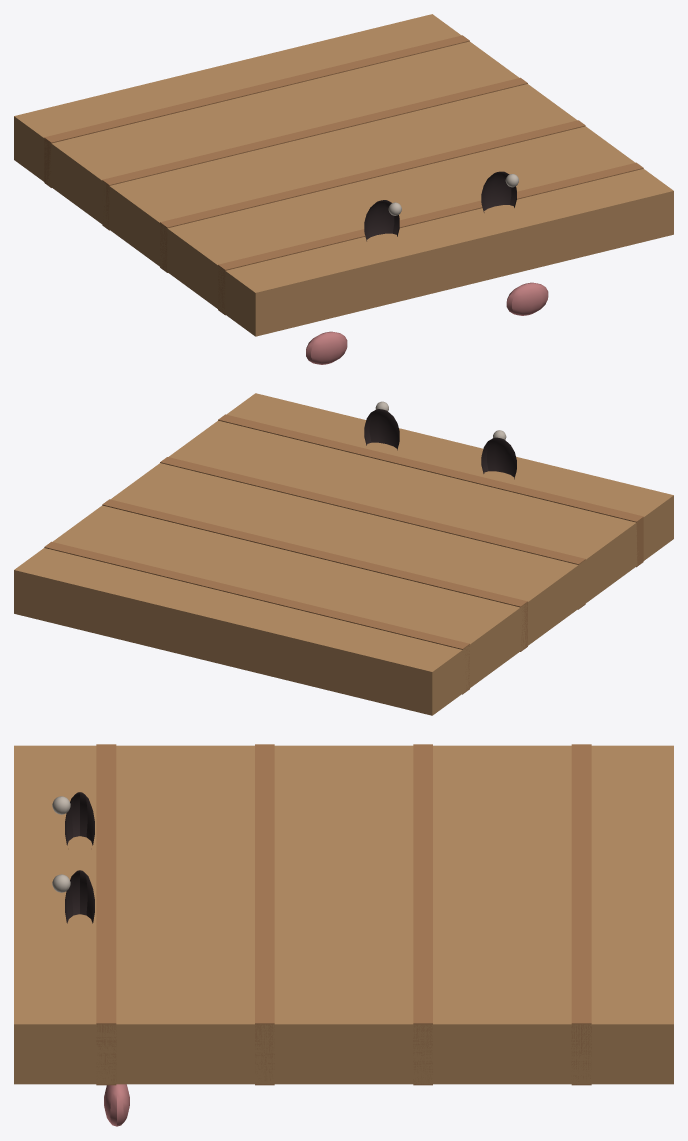
The model's file is p0aef361e.glb.
3 views of the same model, one above another, from view 1: azimuth 30°, elevation 25°; view 2: azimuth 150°, elevation 25°; view 3: azimuth 270°, elevation 25° (orthographic). The views are drawn at different scales.
Visible parts, largest first — view 1: pet_p0aef361e; view 2: pet_p0aef361e; view 3: pet_p0aef361e.
Part boxes in pixels (x1,y1,x2,y2): pet_p0aef361e: [14, 14, 673, 364]; pet_p0aef361e: [14, 393, 673, 715]; pet_p0aef361e: [14, 744, 673, 1126].
Size of the model in its own units: 0.5 by 0.187 by 0.5.
